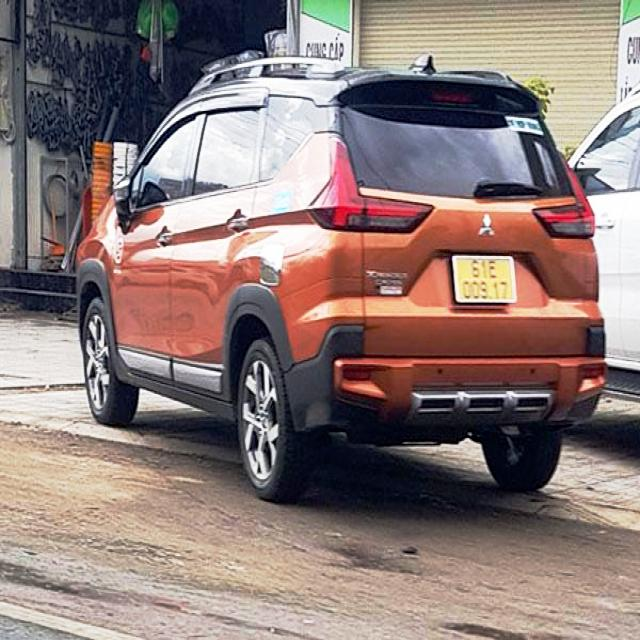license_plate: (453, 258, 516, 305)
